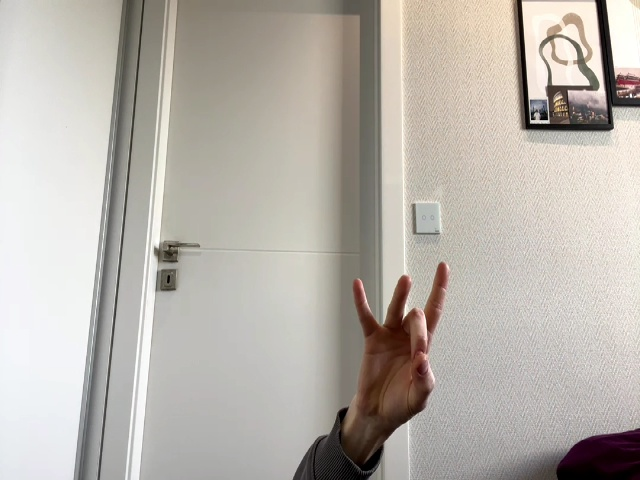G: (349, 262, 450, 414)
